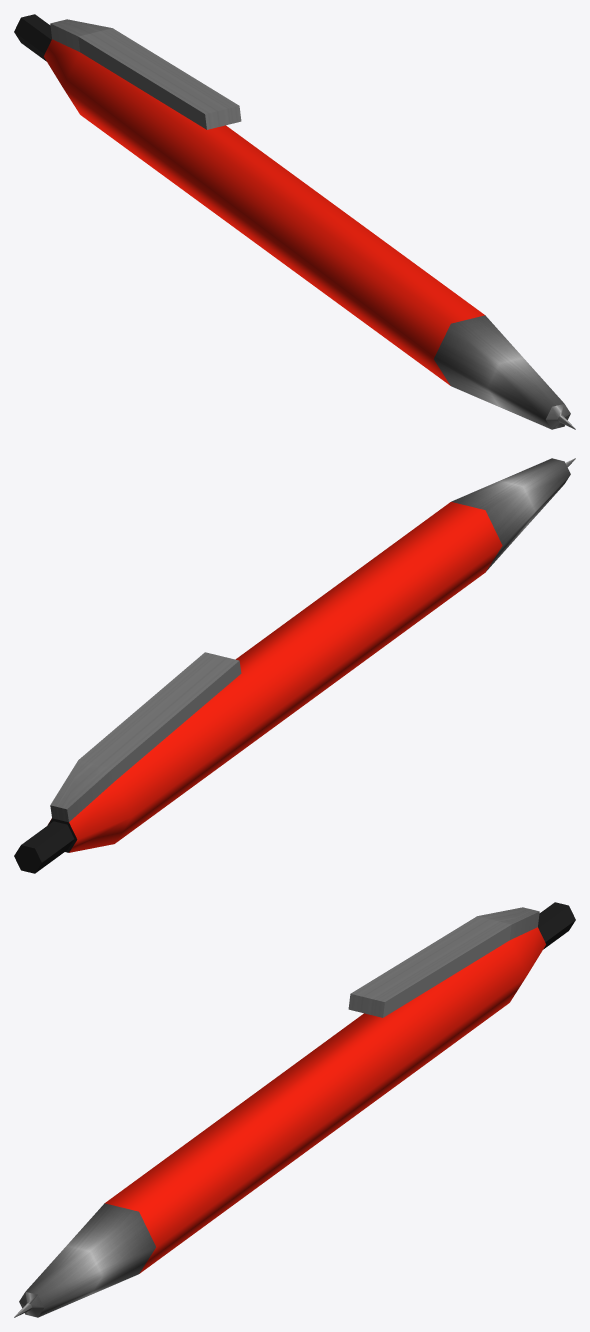
The model's file is Pen_C.FBX.
3 renders of one model, top to bottom at view 1: azimuth 30°, elevation 25°; view 2: azimuth 150°, elevation 25°; view 3: azimuth 330°, elevation 25°, orthographic.
Visible parts, largest first — view 1: Pen; view 2: Pen; view 3: Pen.
Boxes of the visible parts, <box> form: Pen: <box>14,14,575,429</box>; Pen: <box>14,458,575,873</box>; Pen: <box>14,902,575,1317</box>.
Size of the model in its own units: 4 by 5.1 by 55.01.
